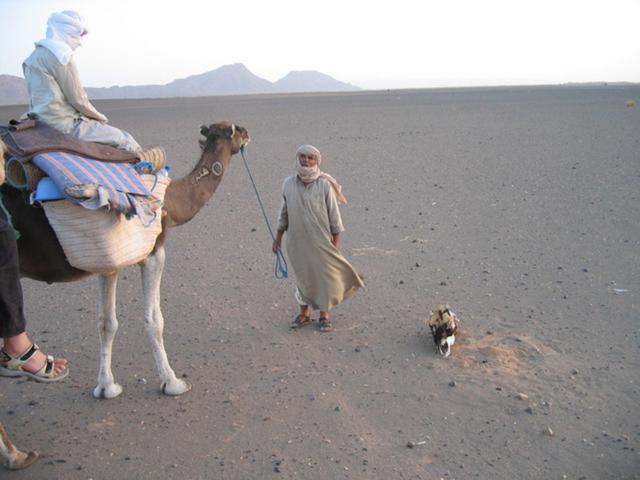camel: (36, 106, 262, 464)
